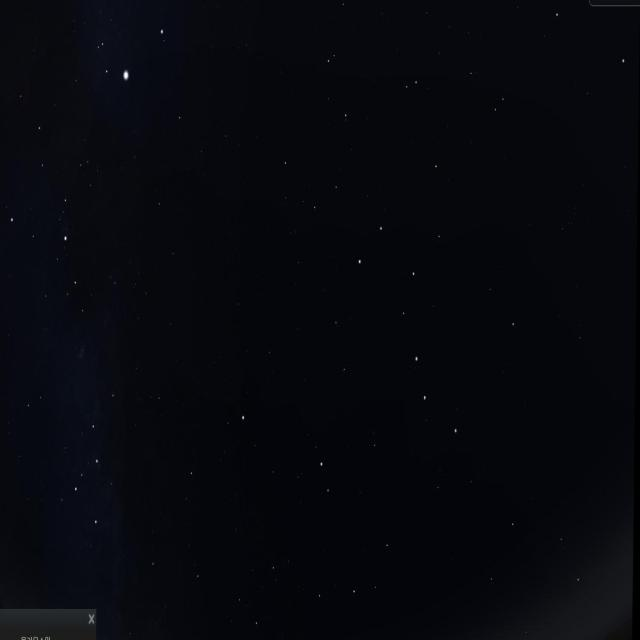cassiopeia: (72, 374, 152, 546)
ursa_major: (352, 213, 466, 447)
